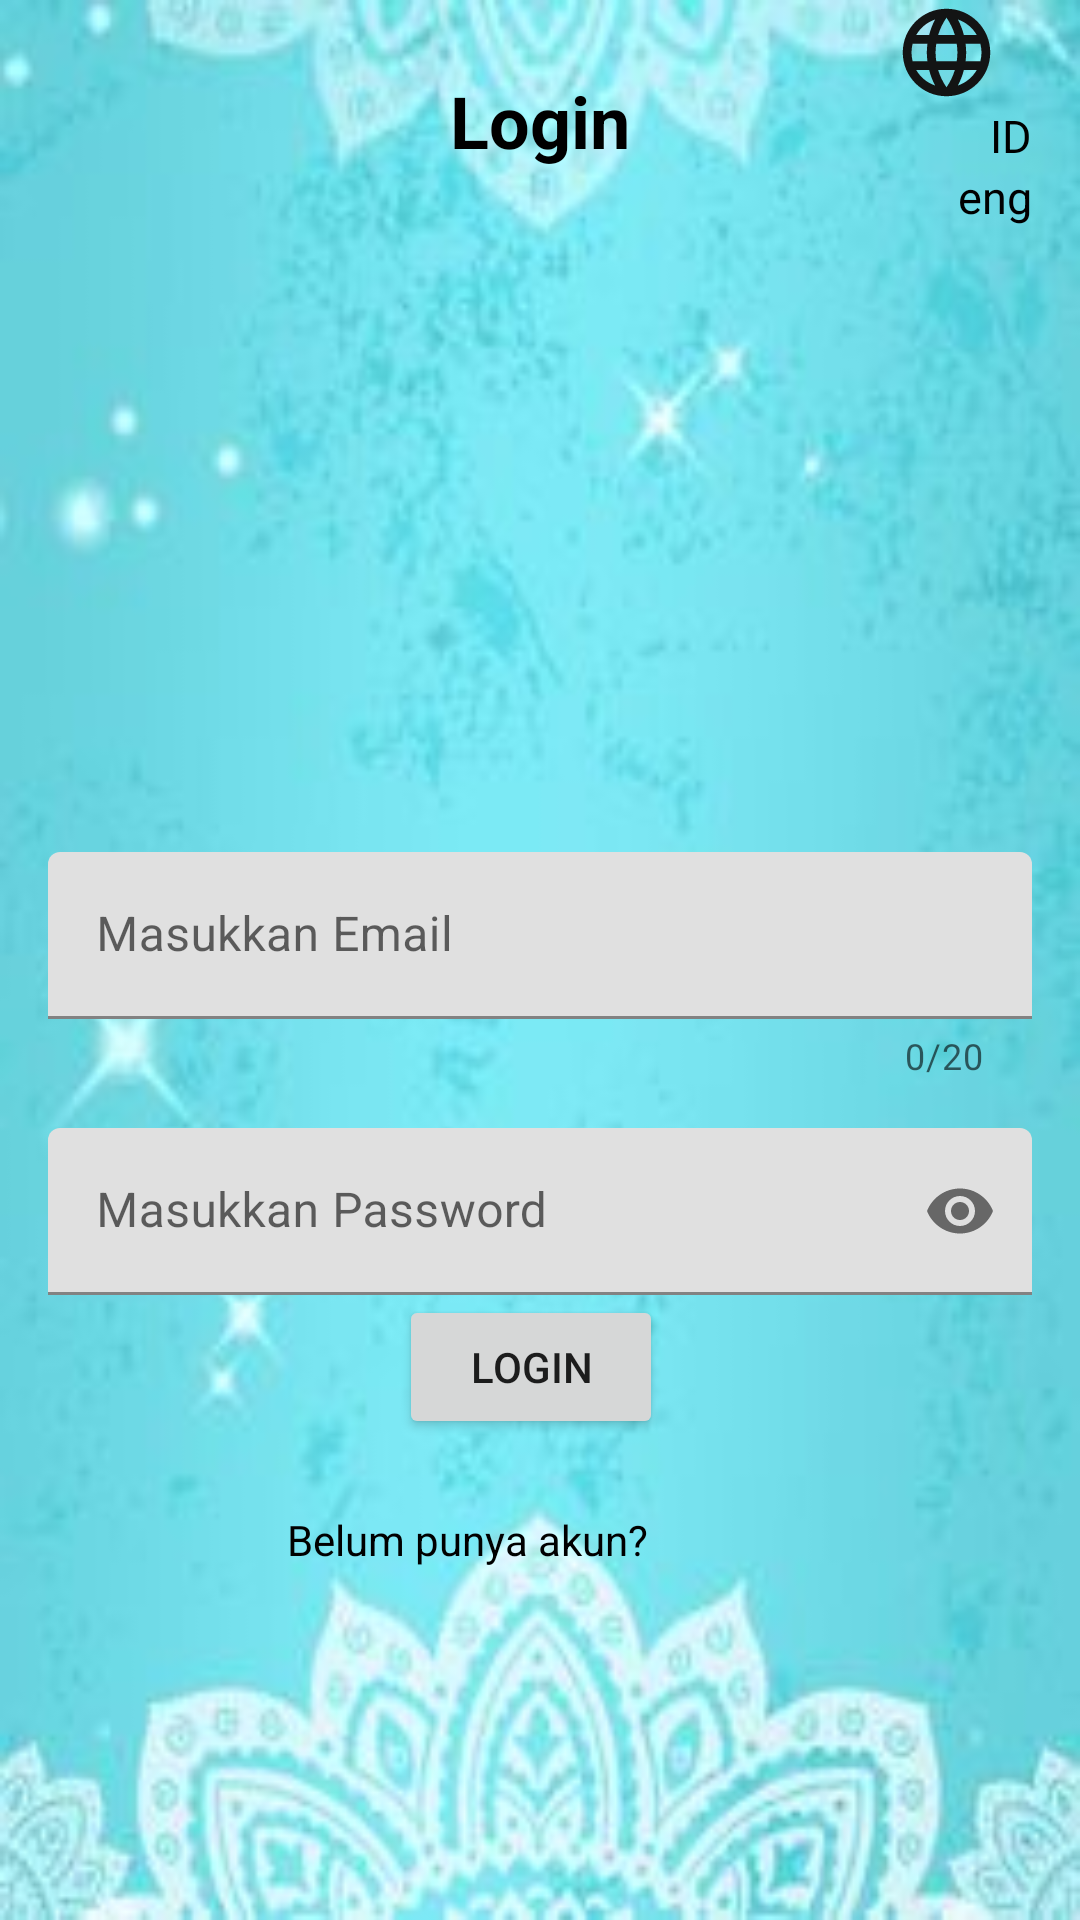

Icons on this 1080x1920 Android screen, each with its box as (x1, y1, x2, y2):
language: (861, 0, 1032, 105)
